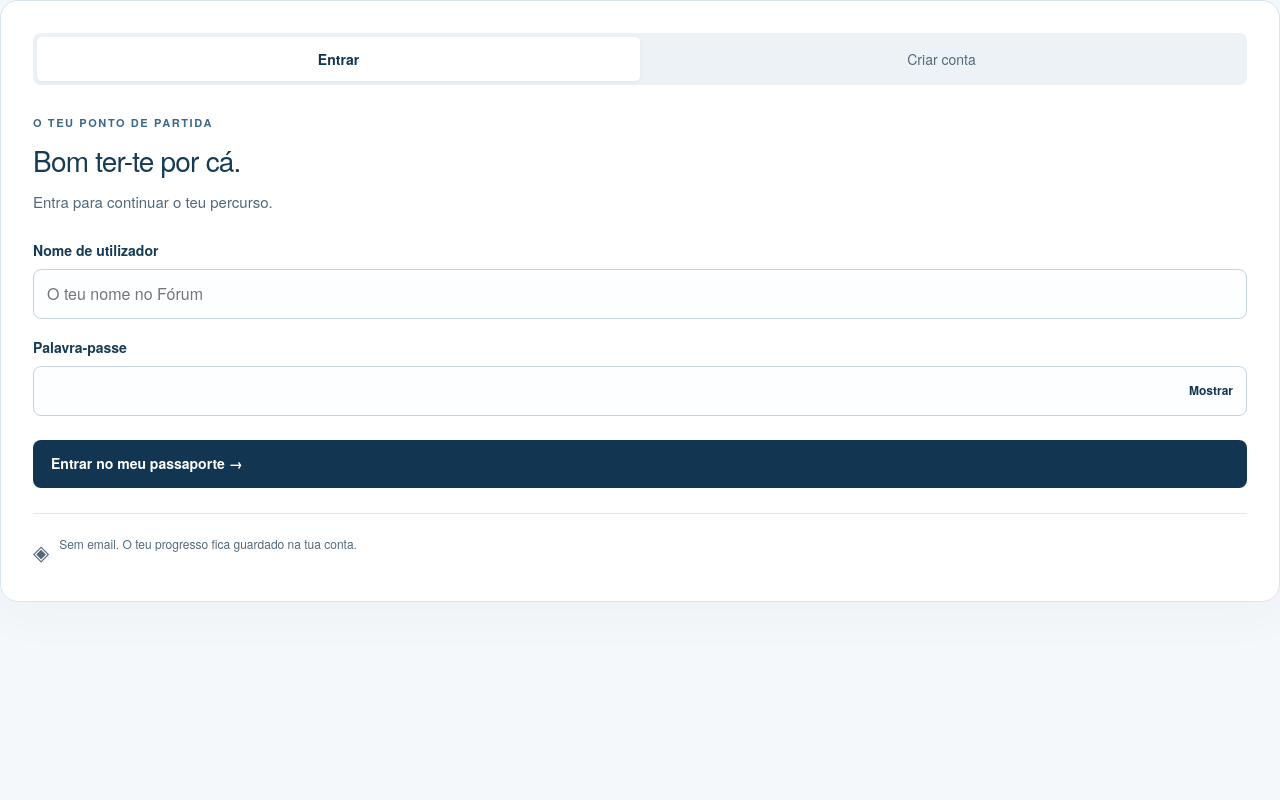
Scenario: permite mostrar a palavra-passe sem perder o valor
Type "Texto!12345" into the password field labelled "Palavra-passe". click: x=640, y=391
box: [33, 366, 1247, 416]
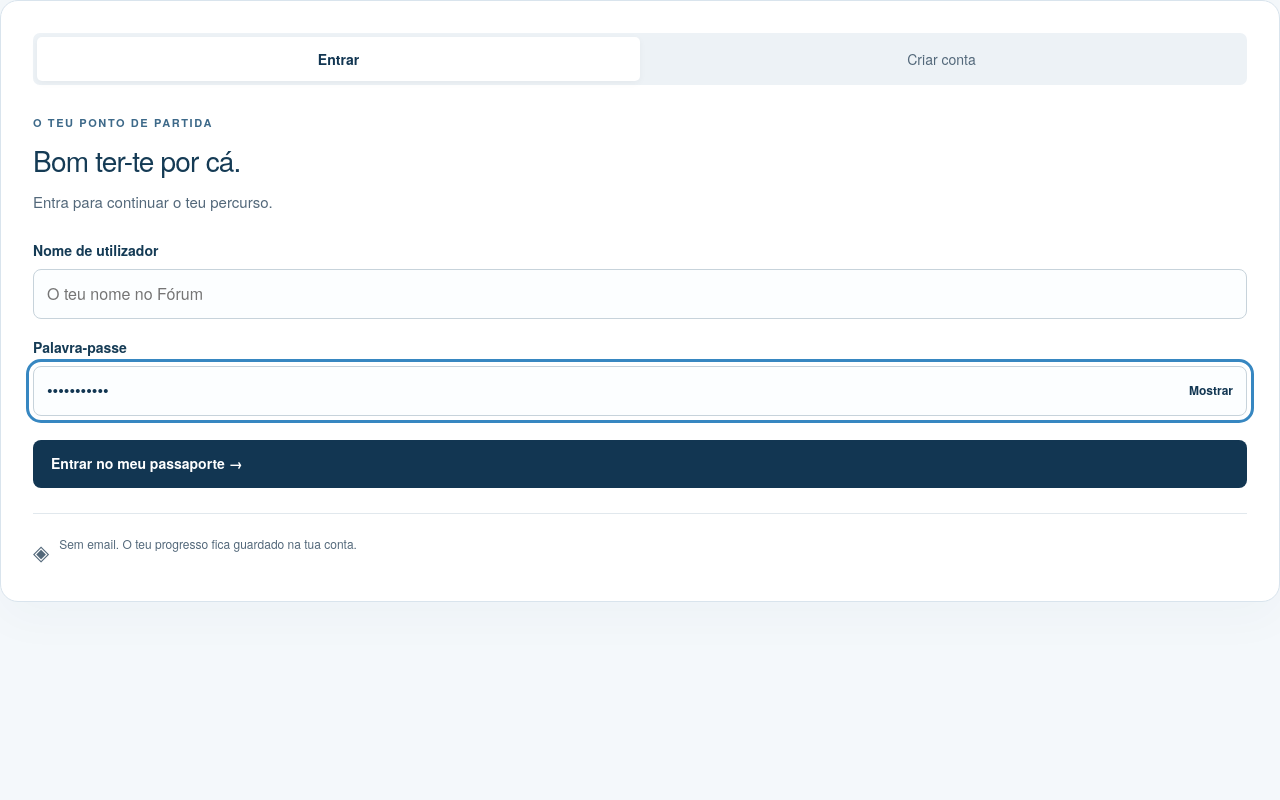
Click the button with aria-label "Mostrar palavra-passe". click: x=1211, y=390
box: [1179, 368, 1243, 412]
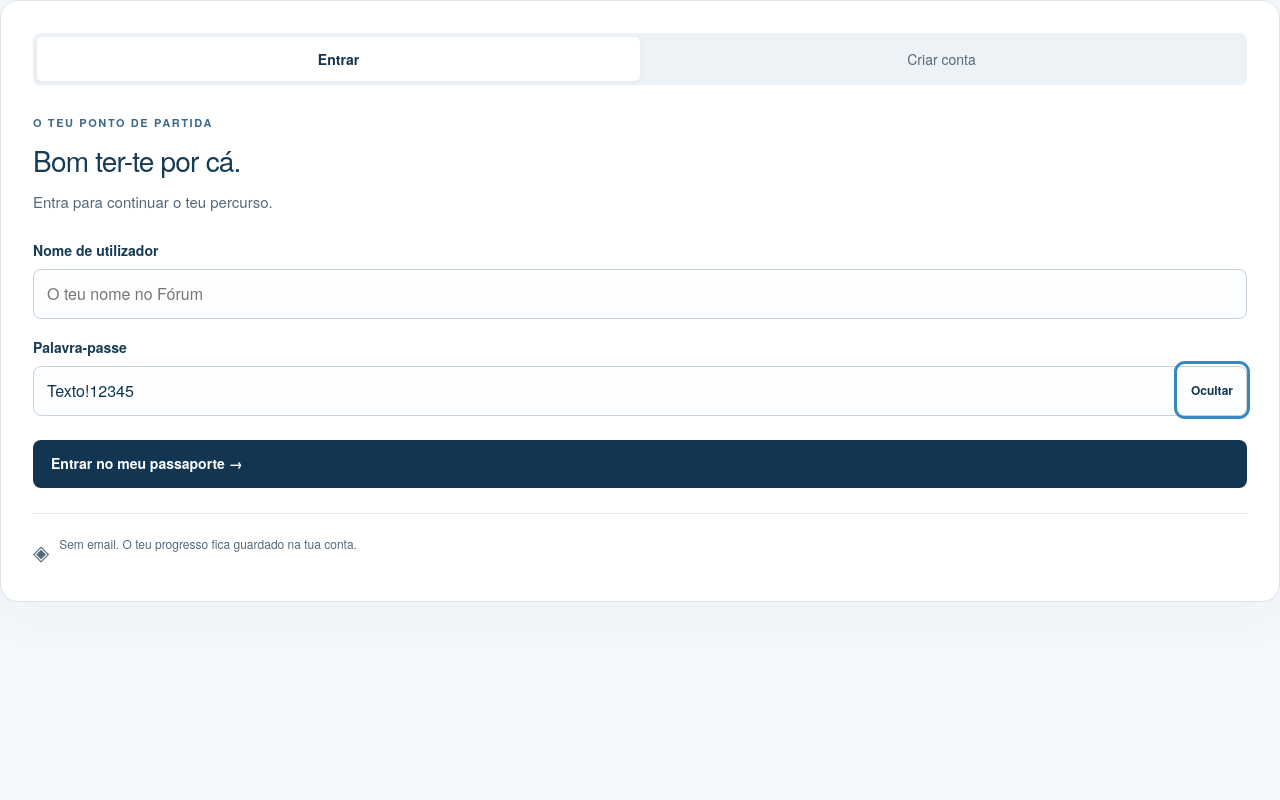
Result: the field labelled "Palavra-passe" shows its text at [33, 366, 1247, 416]
Click the button with aria-label "Ocultar palavra-passe". click: x=1212, y=390
box: [1181, 368, 1243, 412]
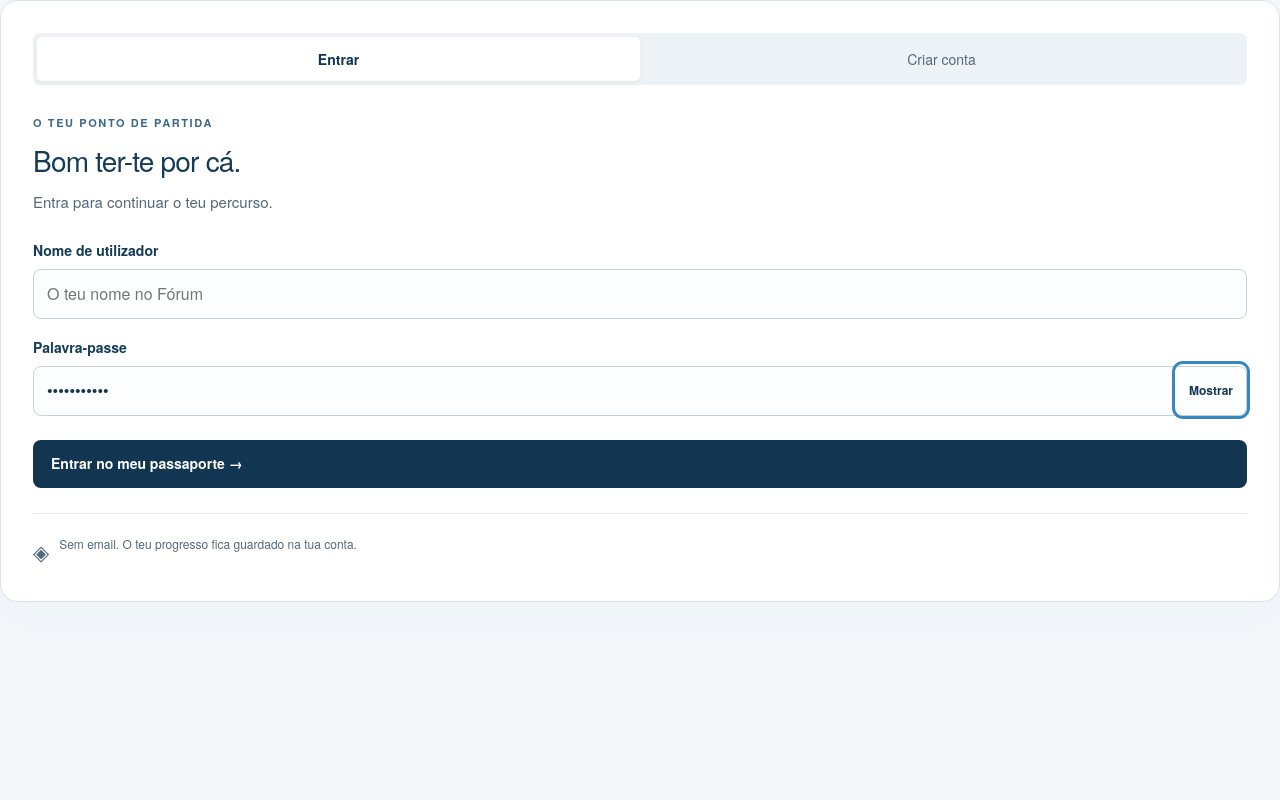
Result: the password field labelled "Palavra-passe" hides its text at [33, 366, 1247, 416]
